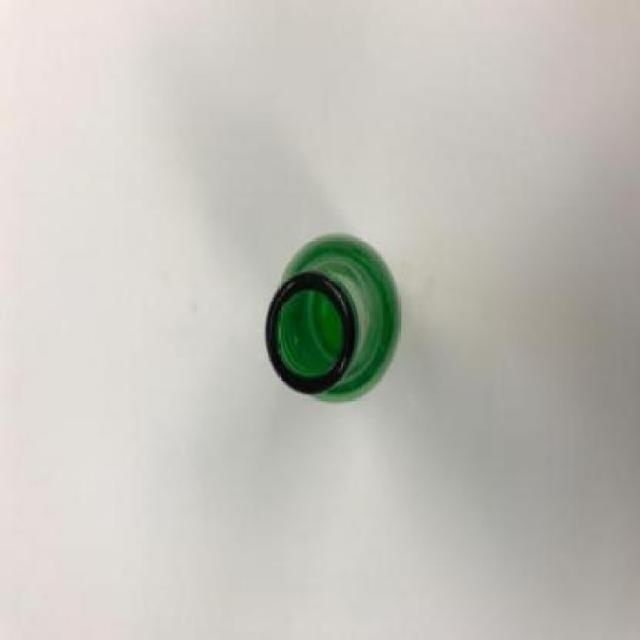kaca: (265, 232, 400, 403)
